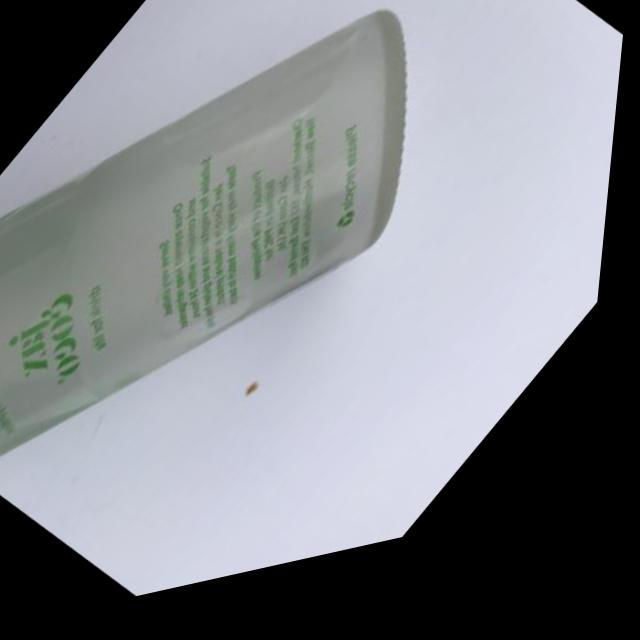glass: (0, 0, 590, 633)
